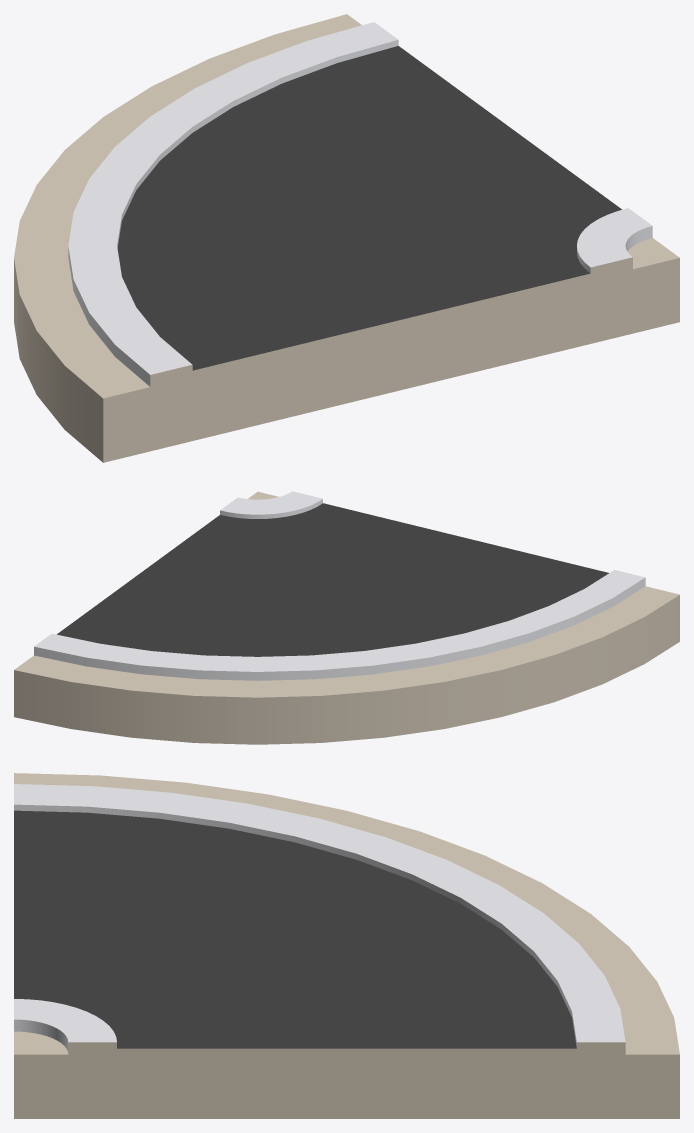
The model's file is roadCornerBridgeSmall.glb.
3 views of the same model, one above another, from view 1: azimuth 30°, elevation 25°; view 2: azimuth 150°, elevation 25°; view 3: azimuth 270°, elevation 25° (orthographic). The views are drawn at different scales.
Parts seen in each view (by area): view 1: roadCornerBridgeSmall(Clone); view 2: roadCornerBridgeSmall(Clone); view 3: roadCornerBridgeSmall(Clone).
Boxes of the visible parts, x1,y1,x2,y2 form: roadCornerBridgeSmall(Clone): [14, 14, 679, 462]; roadCornerBridgeSmall(Clone): [14, 491, 679, 744]; roadCornerBridgeSmall(Clone): [14, 773, 679, 1118].
Size of the model in its own units: 1 by 0.1266 by 1.
